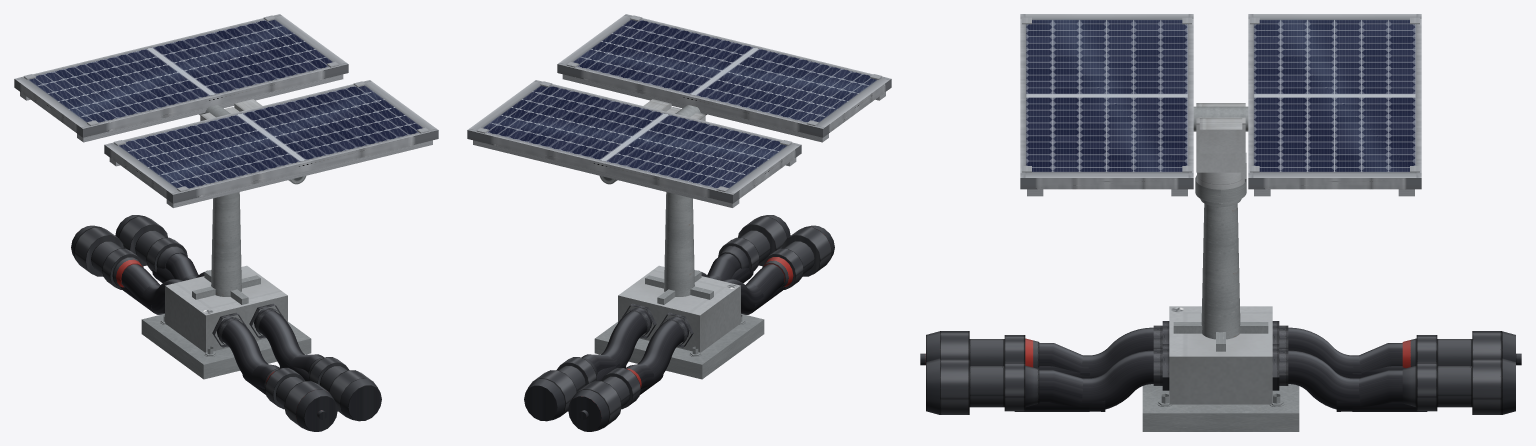
The model's file is pv_dual.obj.
3 renders of one model, left to right at view 1: azimuth 30°, elevation 25°; view 2: azimuth 150°, elevation 25°; view 3: azimuth 270°, elevation 25°, orthographic. The views are drawn at different scales.
Visible parts, largest first — view 1: rotate_elevation_modules_0, rotate_elevation_modules_1, harness, pedestal, harness_plug_south, harness_plug_north, rotate_elevation_1, rotate_elevation_0; view 2: rotate_elevation_modules_1, rotate_elevation_modules_0, harness, pedestal, harness_plug_north, harness_plug_south, rotate_elevation_0, rotate_elevation_1; view 3: rotate_elevation_modules_0, rotate_elevation_modules_1, harness, pedestal, harness_plug_north, harness_plug_south, rotate_azimuth, rotate_elevation.
Boxes of the visible parts, x1,y1,x2,y2 form: rotate_elevation_modules_0: (14,14,348,137); rotate_elevation_modules_1: (104,80,438,203); harness: (120,265,309,394); pedestal: (141,192,311,379); harness_plug_south: (242,354,381,431); harness_plug_north: (71,215,198,314); rotate_elevation_1: (109,140,432,207); rotate_elevation_0: (20,74,343,142); rotate_elevation_modules_1: (557,14,891,137); rotate_elevation_modules_0: (467,80,801,203); harness: (596,265,785,394); pedestal: (594,192,764,379); harness_plug_north: (524,354,663,431); harness_plug_south: (707,215,834,314); rotate_elevation_0: (473,140,796,207); rotate_elevation_1: (562,74,885,142); rotate_elevation_modules_0: (1248,14,1421,189); rotate_elevation_modules_1: (1020,14,1193,189); harness: (1014,306,1427,411); pedestal: (1142,199,1299,431); harness_plug_north: (1336,331,1521,414); harness_plug_south: (920,331,1105,414); rotate_azimuth: (1195,103,1246,203); rotate_elevation: (1193,106,1248,131).
Size of what is drawn, in the model's own units: 0.94 by 0.8135 by 1.46.
